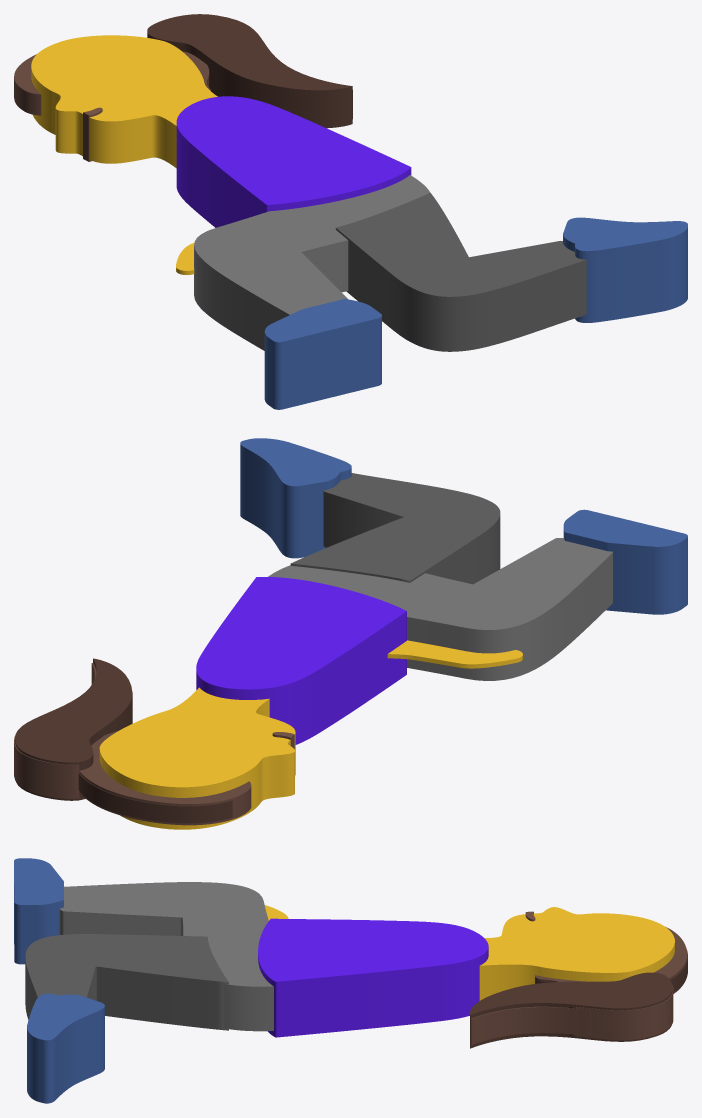
File: emoji_u1f9ce_200d_2640.glb
The picture shows the model from 3 angles, top to bottom: view 1: azimuth 30°, elevation 25°; view 2: azimuth 150°, elevation 25°; view 3: azimuth 270°, elevation 25°; orthographic projection. The views are drawn at different scales.
Parts seen in each view (by area): view 1: emoji_u1f9ce_200d_2640; view 2: emoji_u1f9ce_200d_2640; view 3: emoji_u1f9ce_200d_2640.
Boxes of the visible parts, x1,y1,x2,y2 form: emoji_u1f9ce_200d_2640: [14, 14, 687, 409]; emoji_u1f9ce_200d_2640: [14, 438, 687, 829]; emoji_u1f9ce_200d_2640: [14, 858, 687, 1103].
Bounding box in the file's own units: 0.0212 × 0.0034 × 0.0329.
